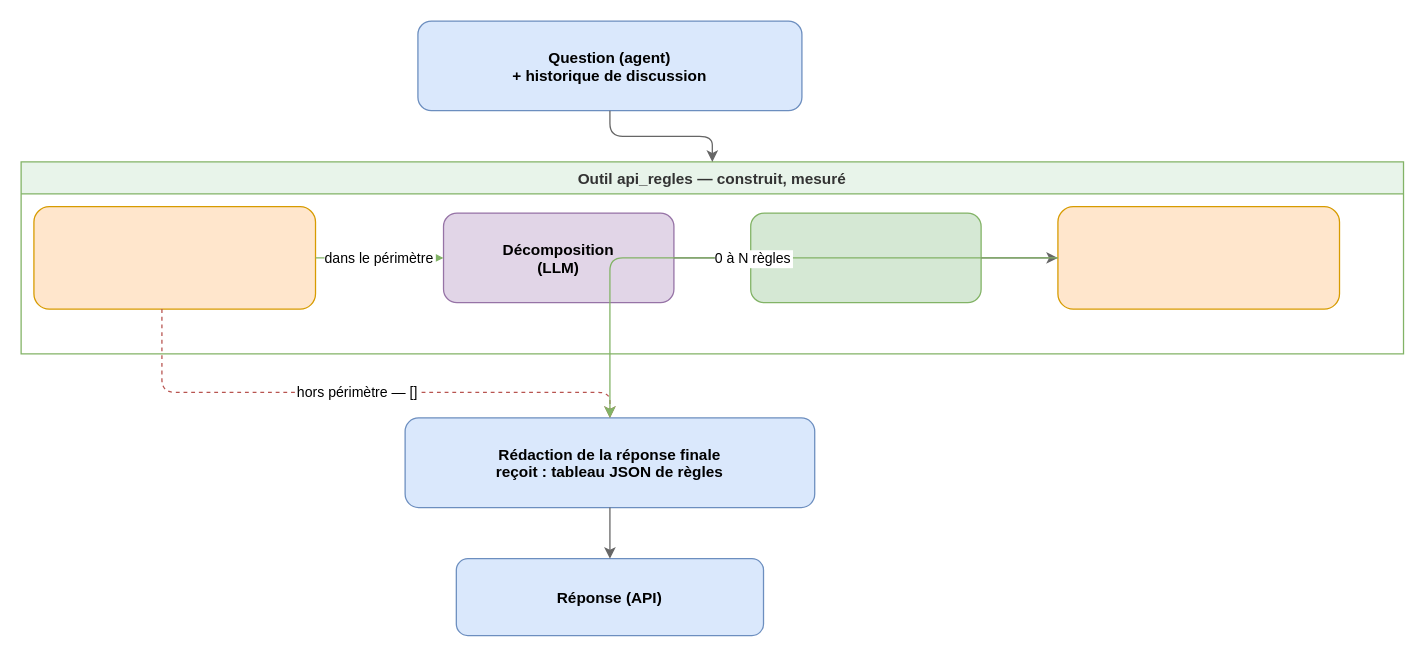
This 1425x657 diagram has some shape labels left out. The box of each missing label's shape, as (x1, y1, x2, y2) in pixels:
Guardrail périmètre (LLM, sans candidats) mesuré 100% / 97,9%: (33, 205, 316, 309)
Recherche vectorielle + fusion (top-15): (749, 212, 981, 303)
selection de regles []: (1057, 205, 1340, 309)
